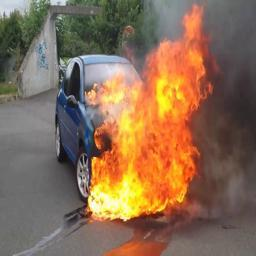fire: (86, 2, 217, 222)
